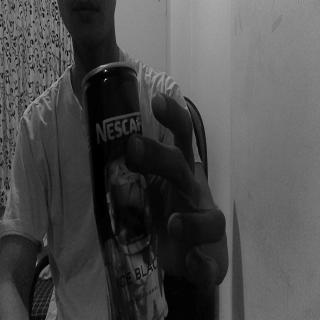alumunium_can: (80, 60, 169, 320)
